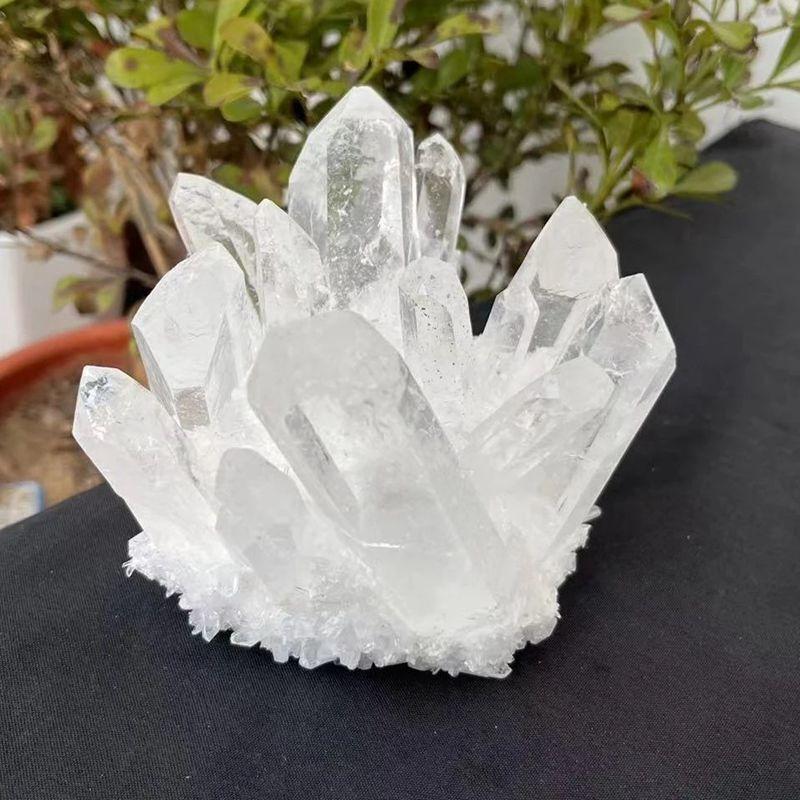Clear_Quartz: (71, 84, 681, 689)
